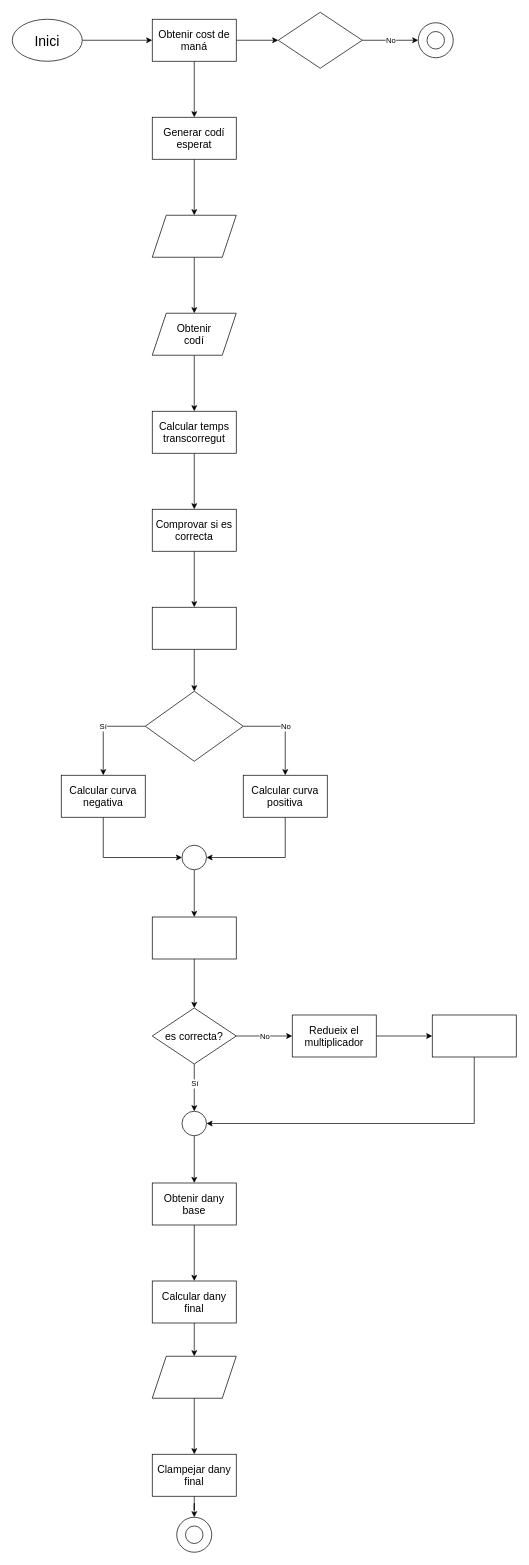
Image size: 529x1565. Some labels were removed from this diagram. Here are the shapes that lost their labels. From the top down, the centre of each, then its label:
At point 320,40: "maná suficient?".
At point 194,236: "Mostrar mini-joc".
At point 194,628: "Calcular velocitats i drexGrace".
At point 194,726: "Menor al temps mig?".
At point 194,937: "Capar multiplicador temporal".
At point 474,1035: "Capar multiplicador correcional".
At point 194,1377: "Mostrar missatge".
